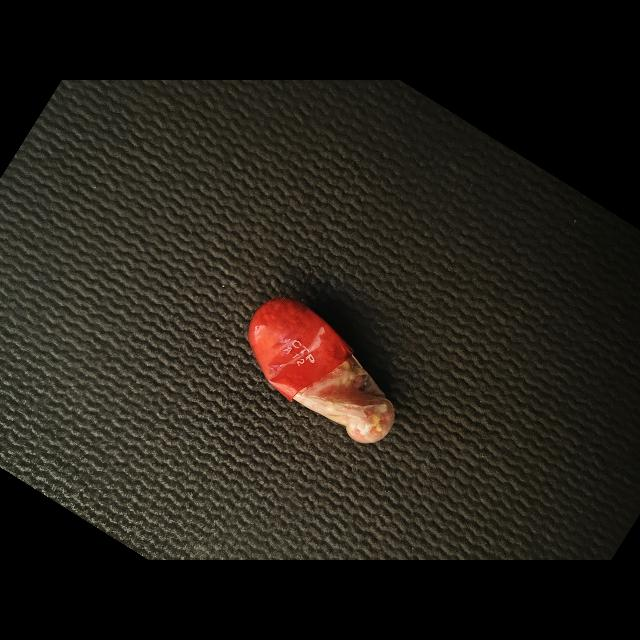Defective Capsule: (248, 299, 395, 443)
